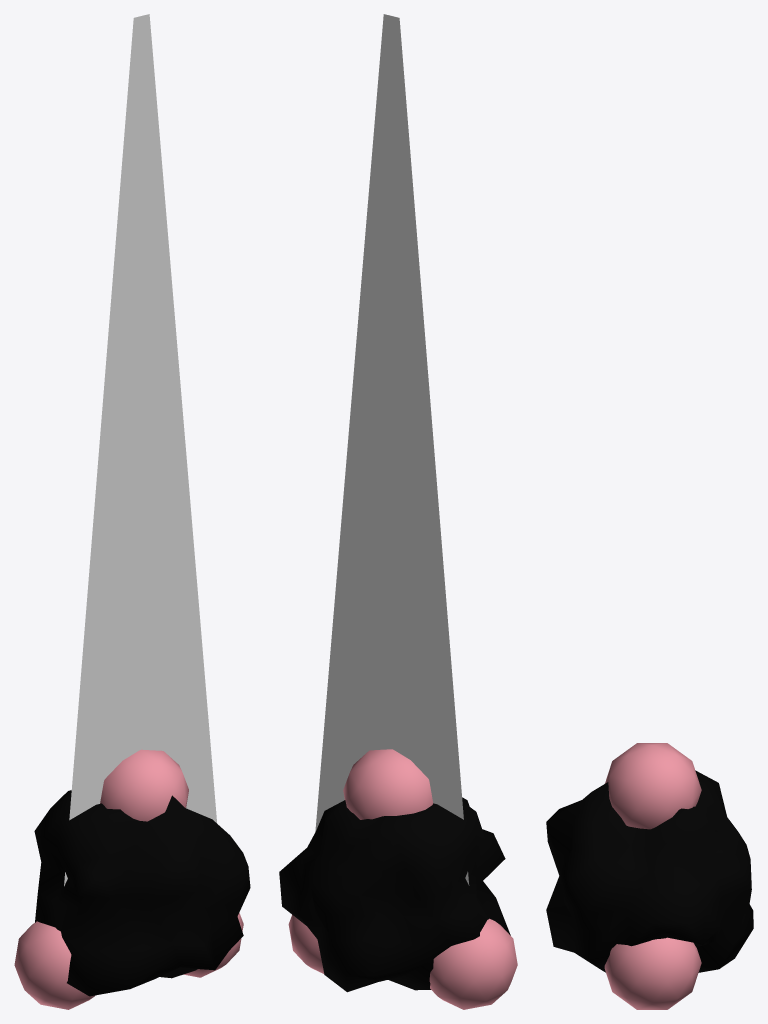
The model's file is fallingStarsMeteorExploding.fbx.
3 renders of one model, left to right at view 1: azimuth 30°, elevation 25°; view 2: azimuth 150°, elevation 25°; view 3: azimuth 270°, elevation 25°, orthographic.
Parts seen in each view (by area): view 1: Icosphere.003; view 2: Icosphere.003; view 3: Icosphere.003.
Boxes of the visible parts, x1,y1,x2,y2 form: Icosphere.003: (14, 14, 250, 1009); Icosphere.003: (279, 14, 517, 1009); Icosphere.003: (546, 743, 753, 1009).
Bounding box in the file's own units: 856 × 3715 × 725.
